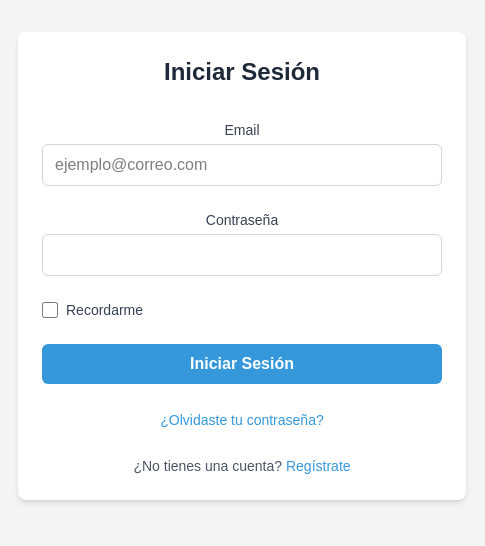
Test case: LoginForm Component › muestra error si la contraseña es demasiado corta
In the password field labelled "Contraseña": (242, 255) [42, 234, 442, 276], type "123"
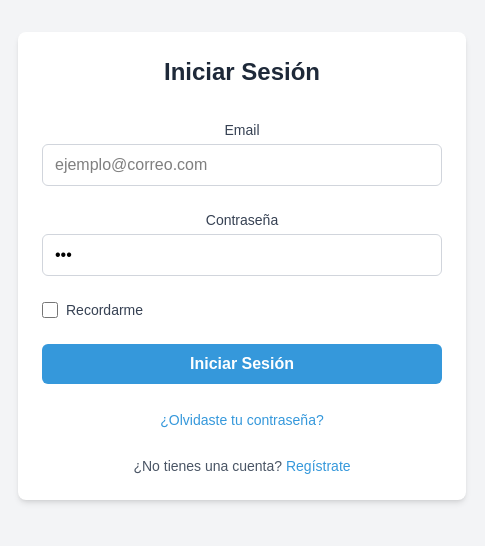
Click the button "Iniciar Sesión": click(242, 364) [42, 344, 442, 384]
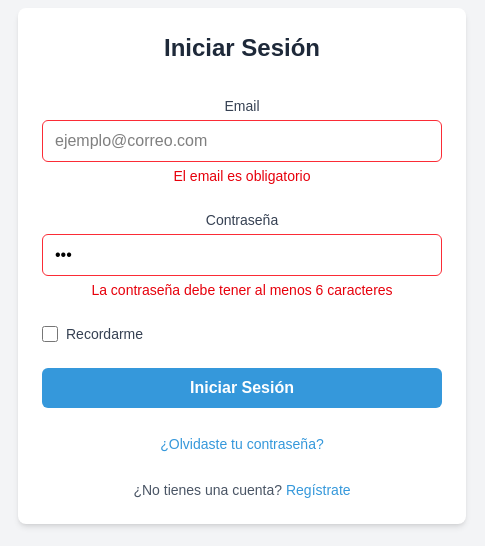
expect the text "La contraseña debe tener al menos 6 caracteres" is shown: met, box [91, 282, 393, 298]
